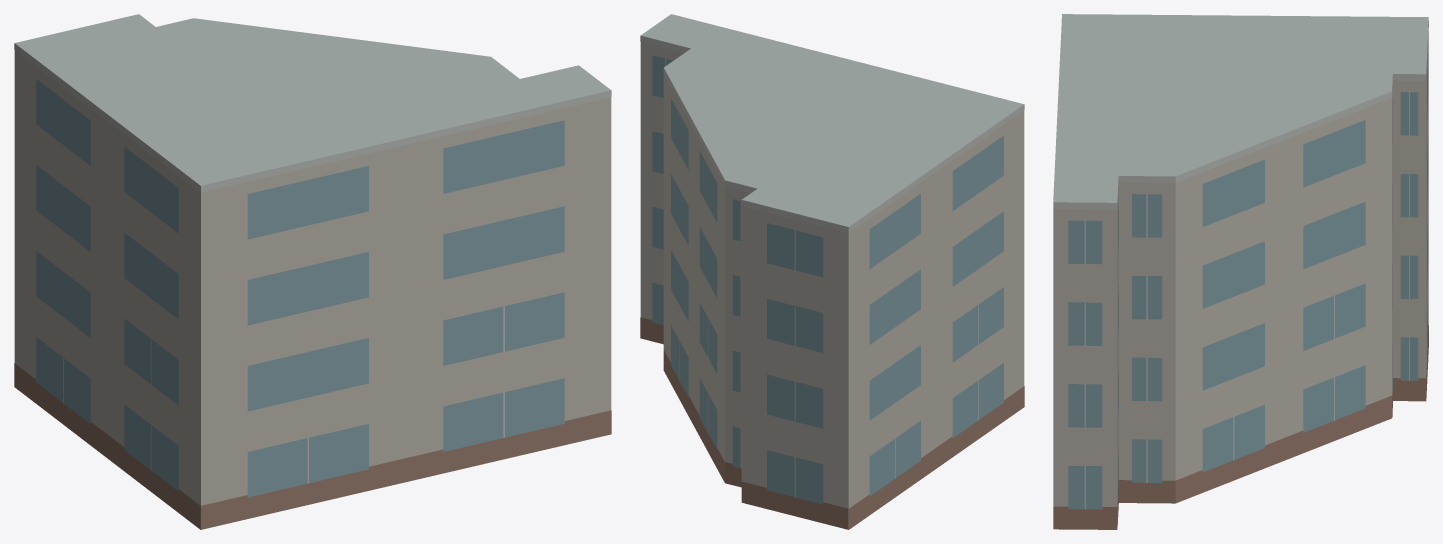
The model's file is residential-e67b50df-1d1c-4fda-85c5-af334fa963ab.glb.
The picture shows the model from 3 angles, left to right: view 1: azimuth 30°, elevation 25°; view 2: azimuth 150°, elevation 25°; view 3: azimuth 270°, elevation 25°; orthographic projection. The views are drawn at different scales.
Parts seen in each view (by area): view 1: residential-e67b50df-1d1c-4fda-85c5-af334fa963ab.tmp; view 2: residential-e67b50df-1d1c-4fda-85c5-af334fa963ab.tmp; view 3: residential-e67b50df-1d1c-4fda-85c5-af334fa963ab.tmp.
Part boxes in pixels (left/top/right/bottom): residential-e67b50df-1d1c-4fda-85c5-af334fa963ab.tmp: left=14, top=14, right=611, bottom=529; residential-e67b50df-1d1c-4fda-85c5-af334fa963ab.tmp: left=640, top=14, right=1024, bottom=529; residential-e67b50df-1d1c-4fda-85c5-af334fa963ab.tmp: left=1053, top=14, right=1428, bottom=529.
Bounding box in the file's own units: 15.12 × 12.2 × 12.71.
